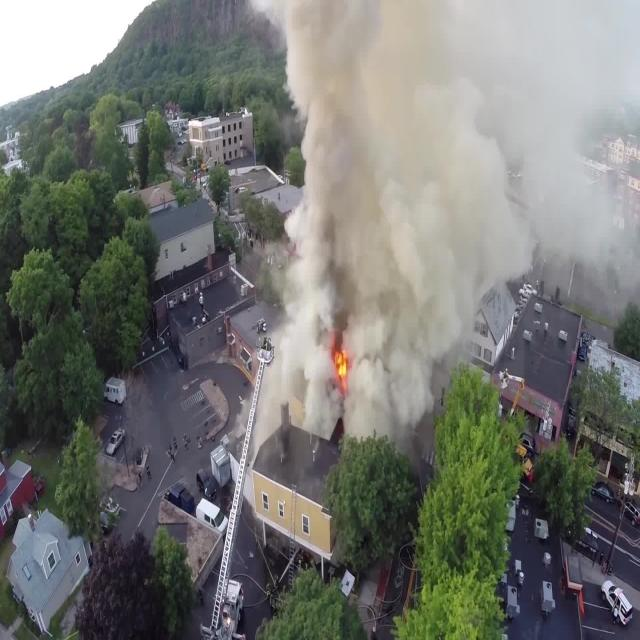Fire: (331, 340, 353, 391)
Smoke: (257, 0, 640, 455)
